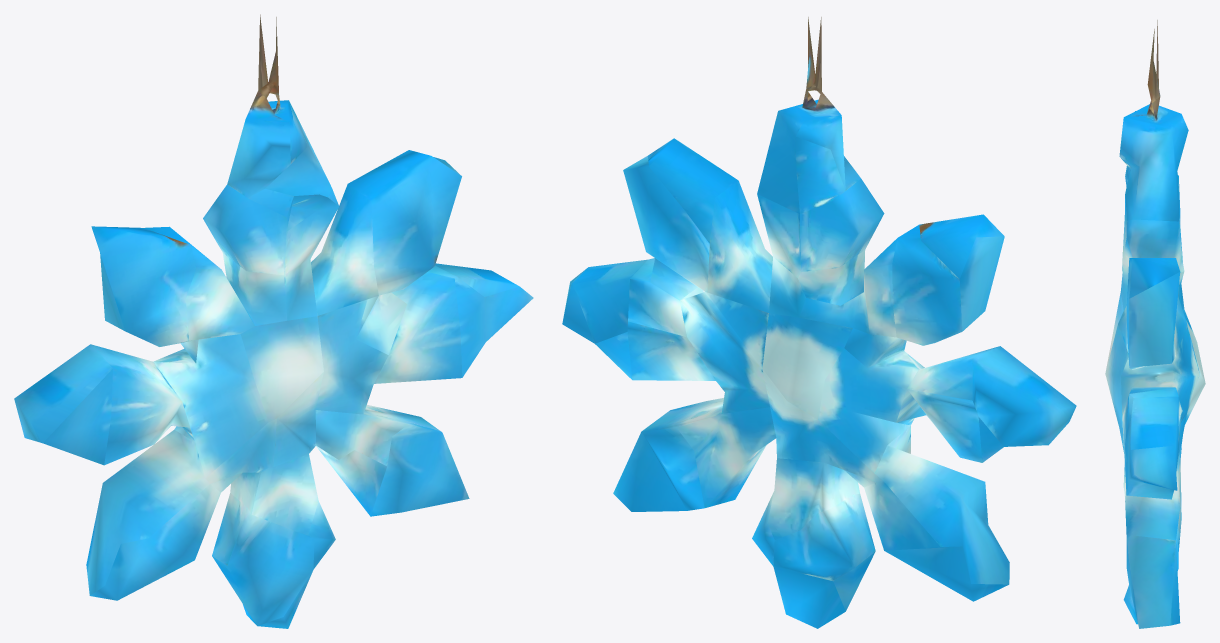
The model's file is s1_gen_snowflake.glb.
The picture shows the model from 3 angles, left to right: view 1: azimuth 30°, elevation 25°; view 2: azimuth 150°, elevation 25°; view 3: azimuth 270°, elevation 25°; orthographic projection.
Size of the model in its own units: 1.59 by 1.84 by 0.2778.
1 material, 1 textured.
